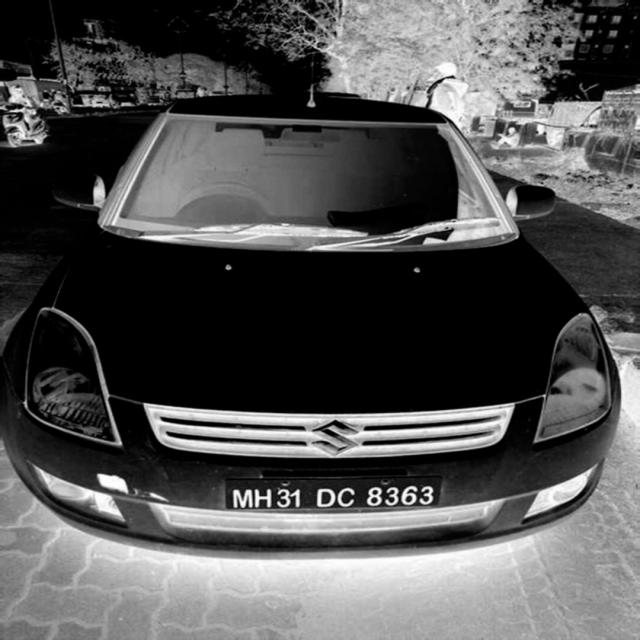Non_registered: (226, 482, 442, 509)
